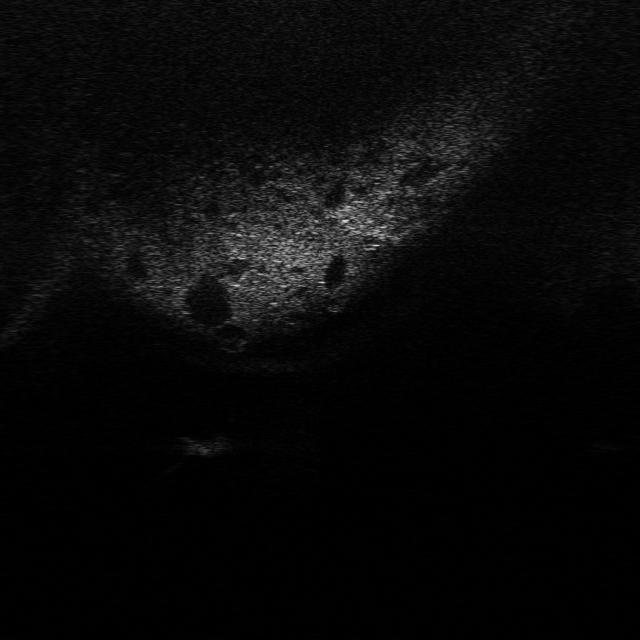ball: (320, 290, 350, 314)
cube: (180, 434, 238, 458)
